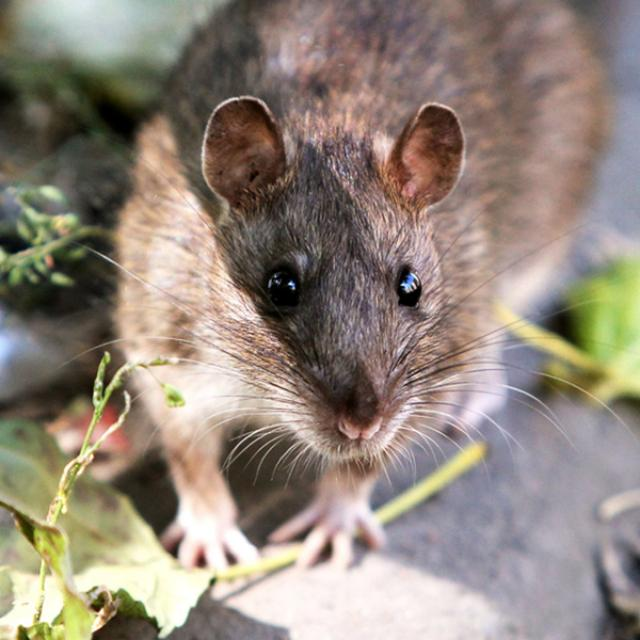rat: (124, 72, 488, 574)
